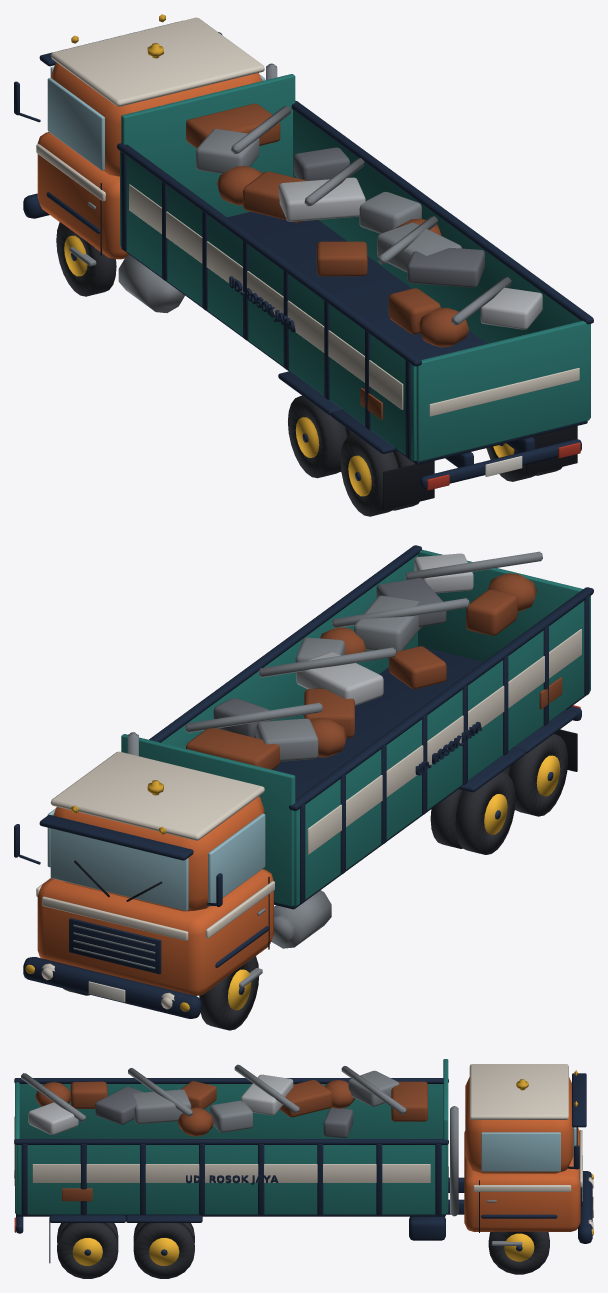
File: TrontonKartun.fbx
3 renders of one model, top to bottom at view 1: azimuth 30°, elevation 25°; view 2: azimuth 150°, elevation 25°; view 3: azimuth 270°, elevation 25°, orthographic. The views are drawn at different scales.
Parts seen in each view (by area): view 1: Body, Wheel_2L, Wheel_3L, Wheel_1L, Wheel_3R; view 2: Body, Wheel_2L, Wheel_3L, Wheel_1L; view 3: Body, Wheel_2R, Wheel_3R, Wheel_1R.
Boxes of the visible parts, x1,y1,x2,y2 form: Body: (14, 14, 593, 510); Wheel_2L: (288, 395, 354, 478); Wheel_3L: (340, 434, 419, 516); Wheel_1L: (56, 222, 116, 296); Wheel_3R: (486, 443, 562, 481); Body: (14, 545, 593, 1018); Wheel_2L: (430, 772, 515, 854); Wheel_3L: (501, 734, 567, 816); Wheel_1L: (199, 956, 258, 1030); Body: (14, 1059, 593, 1263); Wheel_2R: (133, 1223, 194, 1278); Wheel_3R: (57, 1223, 118, 1278); Wheel_1R: (488, 1231, 549, 1274).
Size of the model in its own units: 2.83 by 3 by 9.48.
